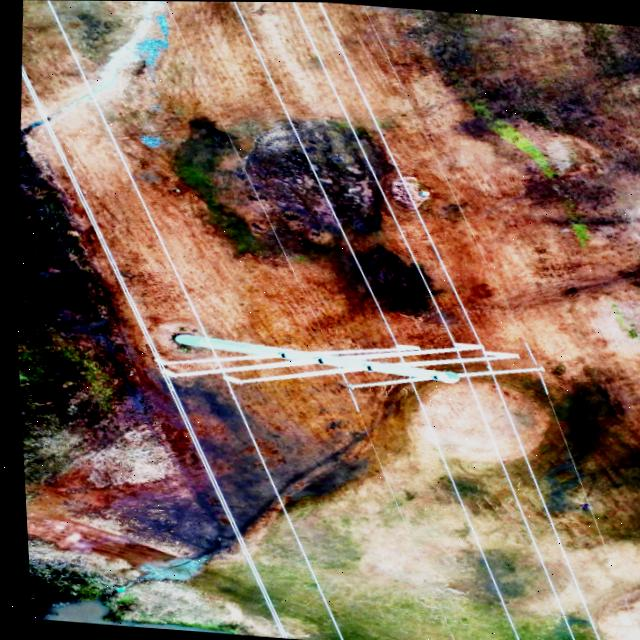poles: (132, 315, 541, 400)
wires: (219, 1, 480, 346), (20, 0, 202, 337), (136, 380, 343, 632), (407, 386, 598, 640)
